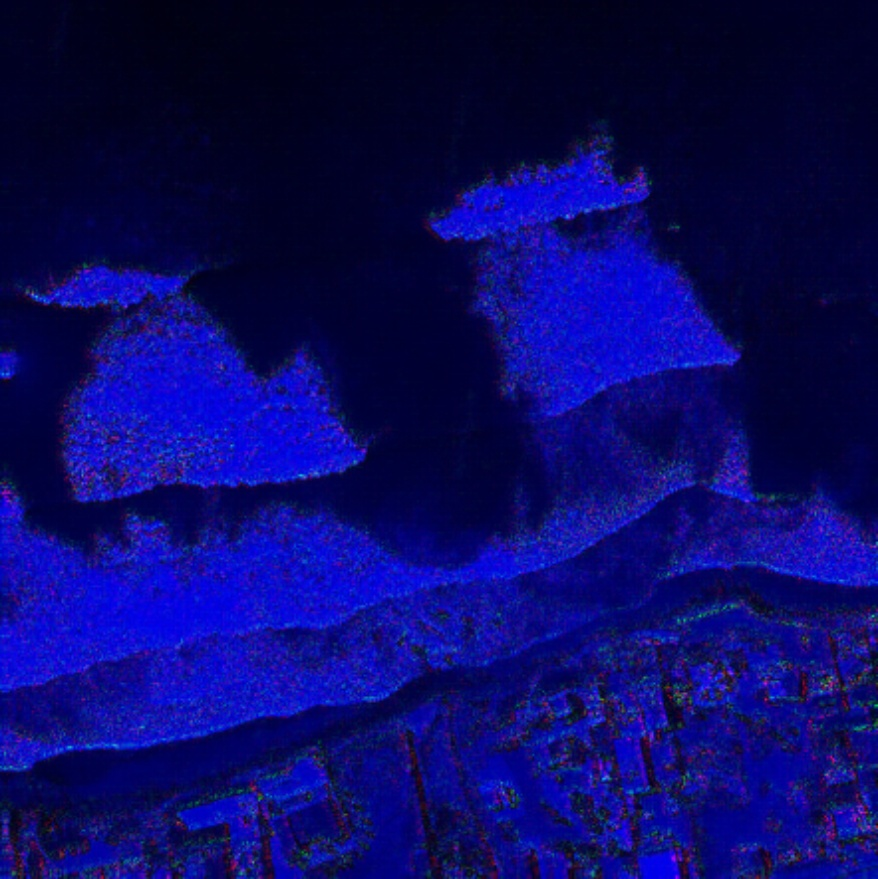rip_current: (159, 153, 564, 580)
